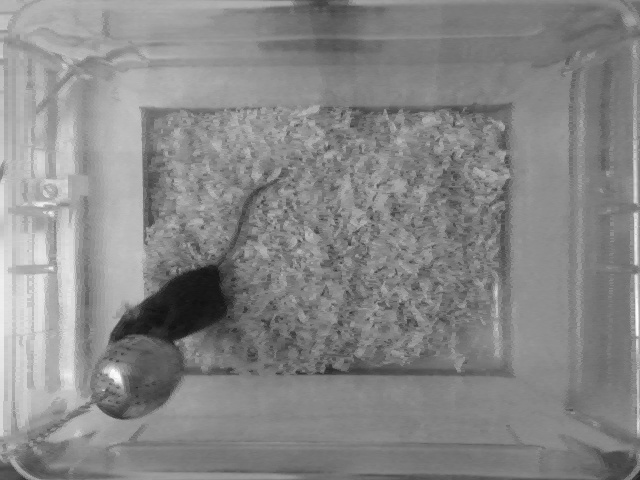mice: (105, 175, 278, 348)
